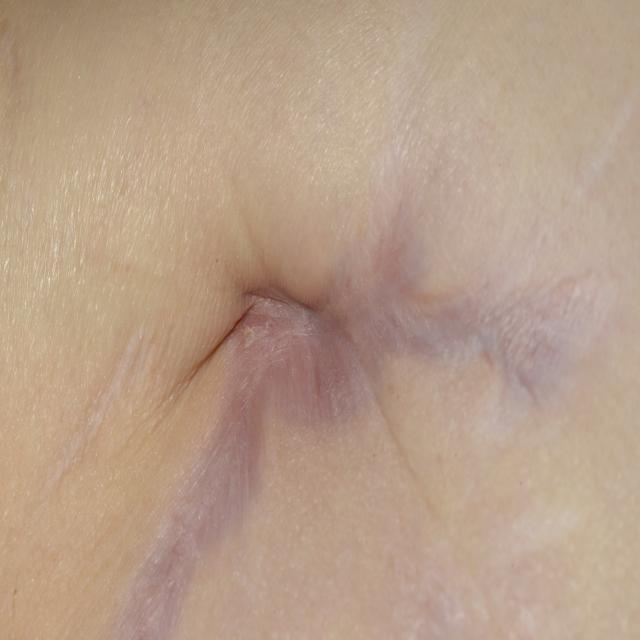wound: (158, 181, 606, 450)
